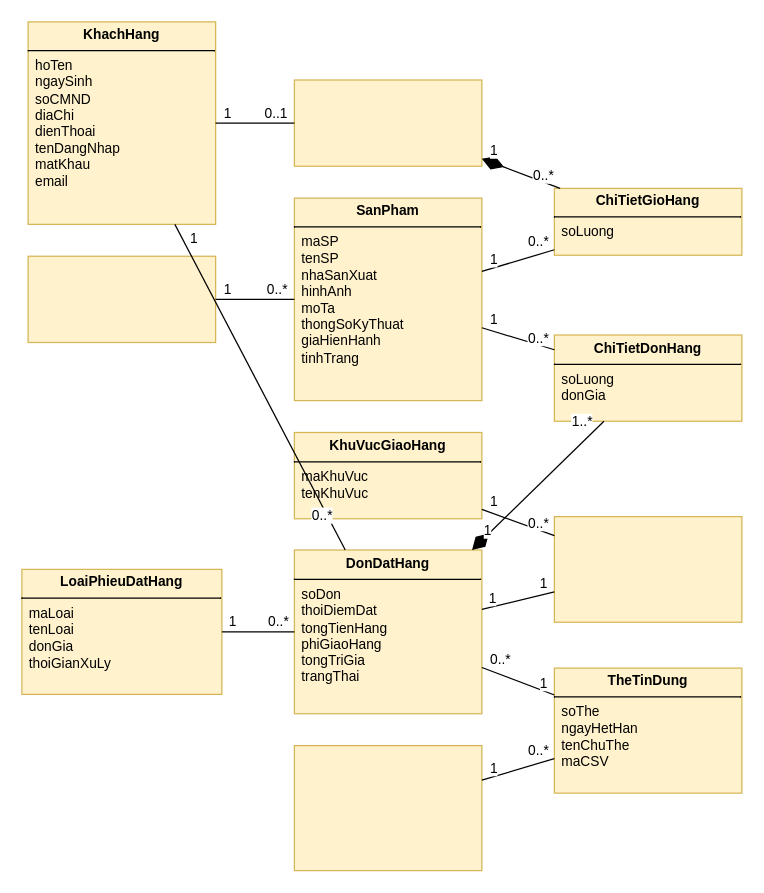
The diagram is 764 pixels wide and 893 high, and some of its shapes have lost their labels. The shapes that lost their labels are listed below. From the top down, each one's box as (x1, y1, x2, y2) in pixels, then its label:
(293, 79, 482, 166): GioHang maGio ngayTao
(27, 255, 216, 342): NhomSanPham maNhom tenNhom
(553, 515, 742, 622): NguoiNhan hoTen diaChi dienThoai
(293, 744, 482, 871): LoaiThe tenLoai soChuSoThe soChuSoCSV lePhi
